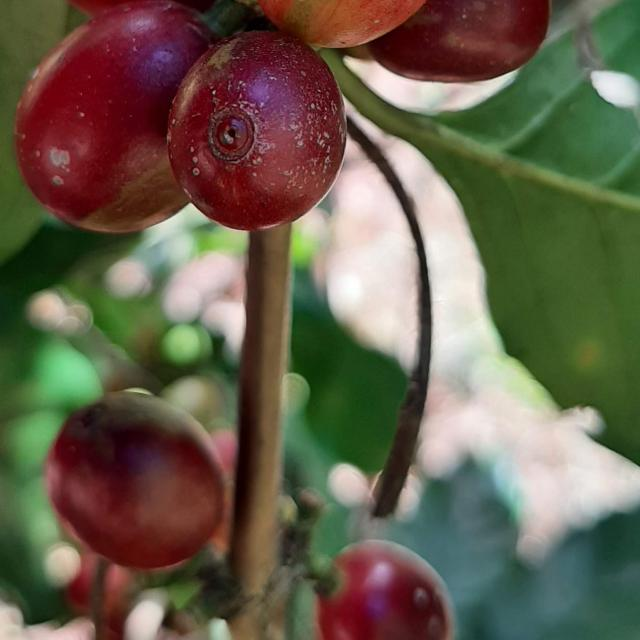red: (14, 0, 213, 232), (167, 31, 346, 231), (45, 390, 223, 570), (370, 0, 551, 81), (319, 541, 453, 640)
yellow: (259, 0, 426, 47)
